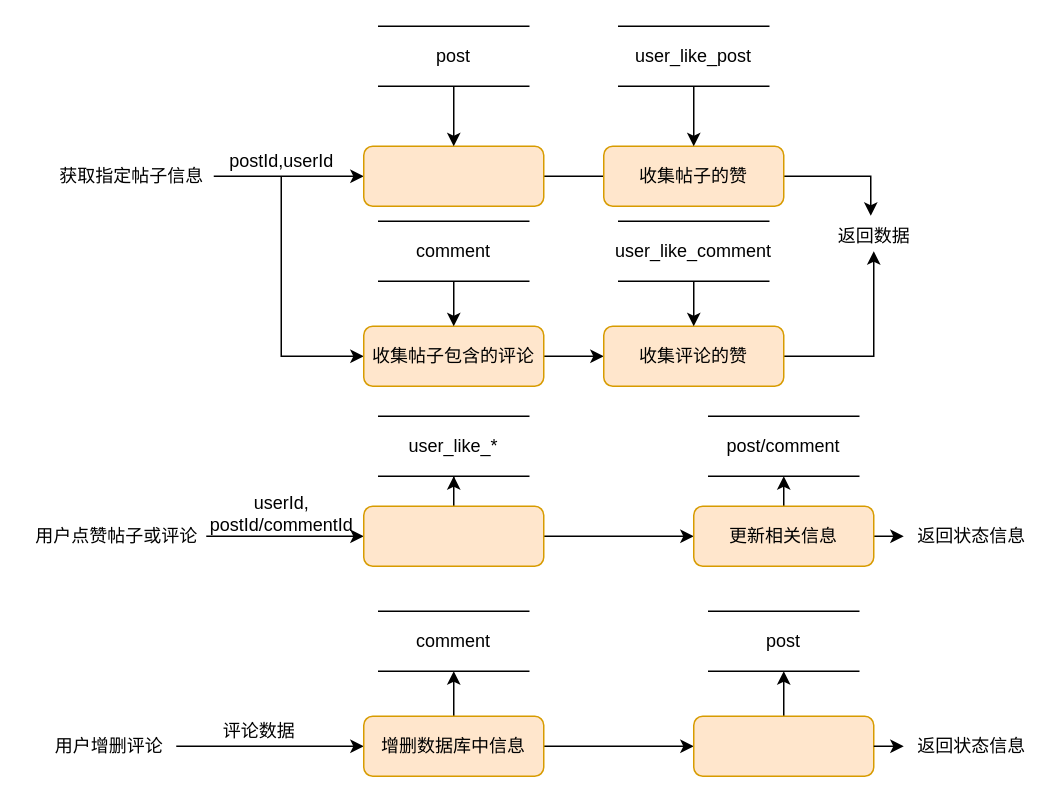
The diagram is 1064 pixels wide and 803 high, and some of its shapes have lost their labels. The shapes that lost their labels are listed below. From the top down, each one's centre as x and y in pixels, then its label:
At pixel 453 175: "收集帖子数据".
At pixel 453 535: "更新comment/post赞表".
At pixel 783 745: "更新帖子相关信息".
